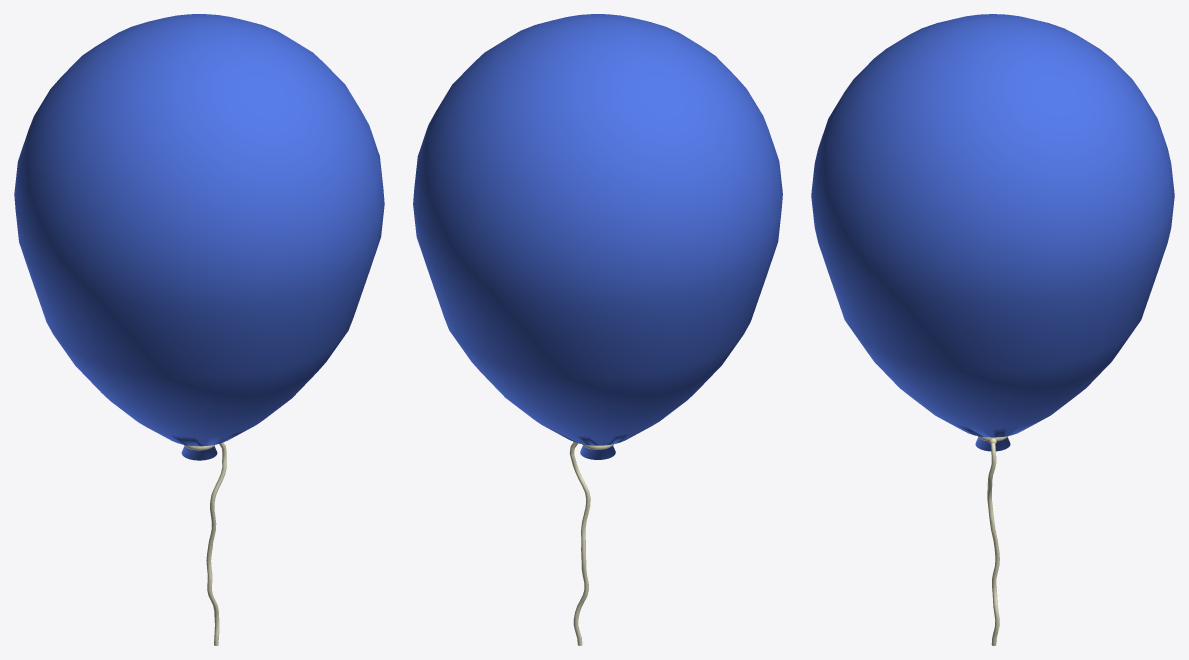
Rendered from PALLONCINO.gltf.
3 renders of one model, left to right at view 1: azimuth 30°, elevation 25°; view 2: azimuth 150°, elevation 25°; view 3: azimuth 270°, elevation 25°, orthographic. The views are drawn at different scales.
Visible parts, largest first — view 1: Sphere, Cylinder; view 2: Sphere, Cylinder; view 3: Sphere, Cylinder.
Part boxes in pixels (bbox=[...]): Sphere: bbox=[14, 14, 384, 460]; Cylinder: bbox=[184, 442, 226, 645]; Sphere: bbox=[413, 14, 782, 459]; Cylinder: bbox=[569, 442, 613, 645]; Sphere: bbox=[811, 14, 1174, 451]; Cylinder: bbox=[977, 436, 1008, 645].
Bounding box in the file's own units: 2 × 3.68 × 2.
